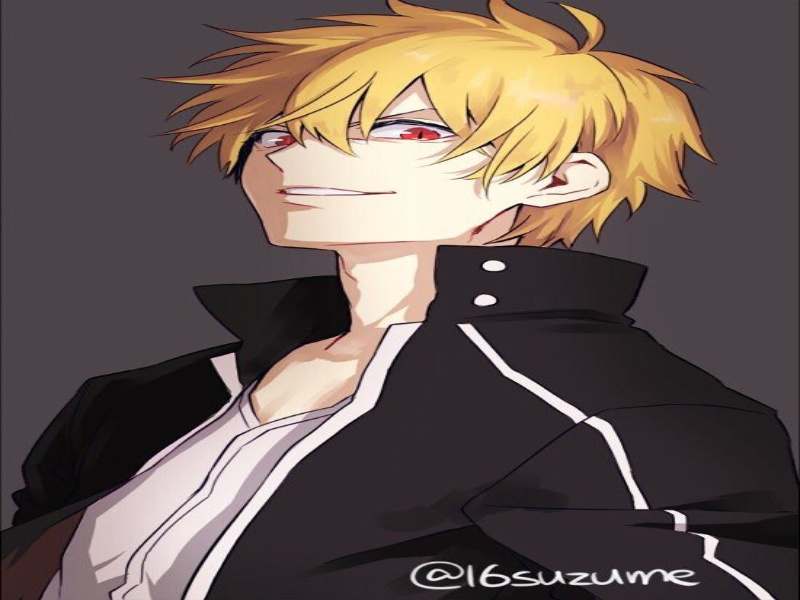person: (213, 9, 693, 276)
